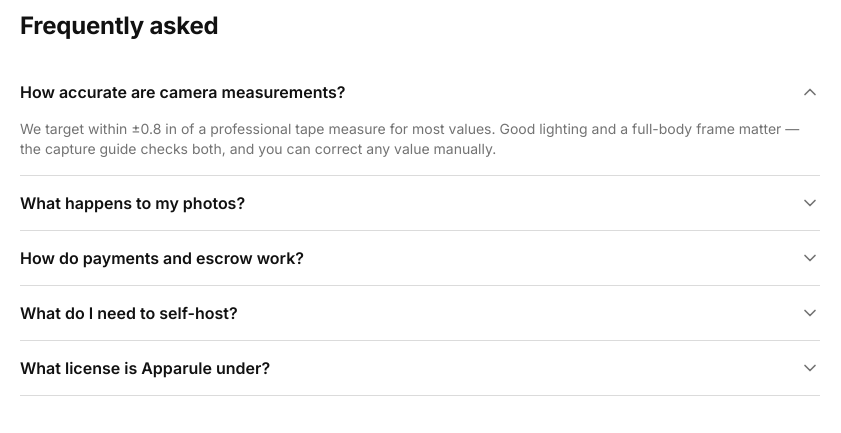
Test: FaqSection (A9b) › keeps the first row expanded by default, one open at a time
Click the button "What happens to my photos?": [133, 203] box [20, 176, 820, 230]
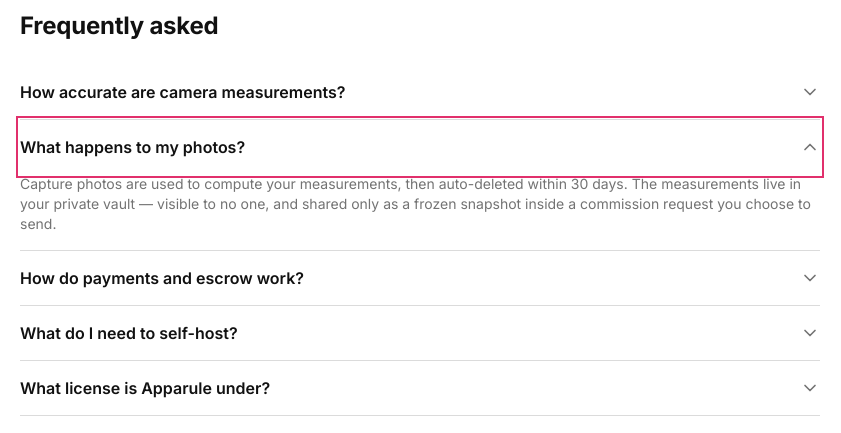
Now the button "What happens to my photos?" is expanded, box [20, 120, 820, 174]
Now the button "How accurate are camera measurements?" is collapsed, box [20, 65, 820, 119]
